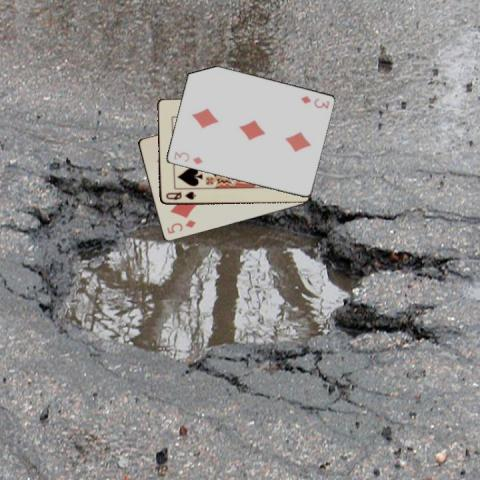3d: (297, 93, 331, 111), (171, 149, 204, 166)
5d: (164, 218, 198, 236)
Qs: (162, 190, 196, 202)
